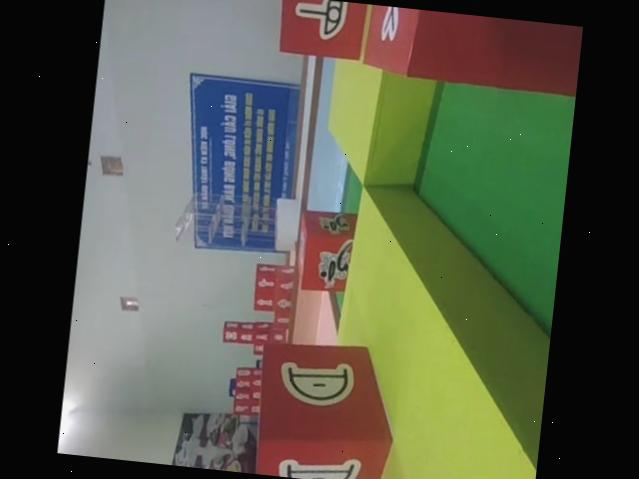R1: (294, 211, 367, 297)
R2 Real: (246, 336, 409, 479), (271, 0, 371, 66)
